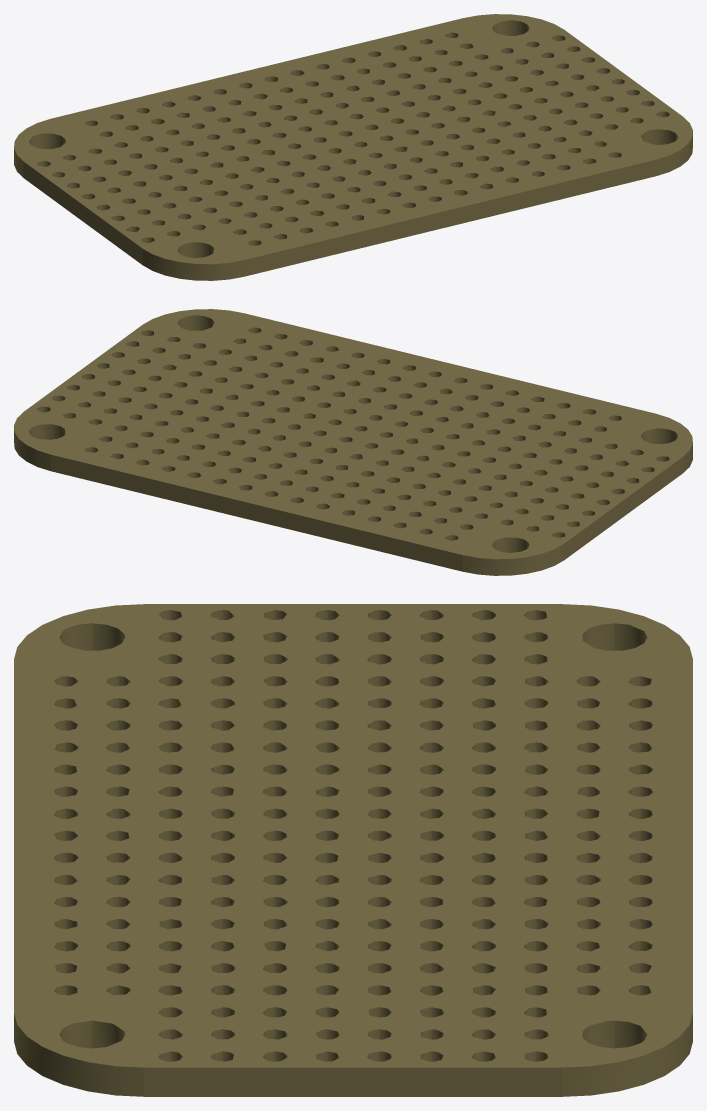
File: ada-1214.glb
3 views of the same model, one above another, from view 1: azimuth 30°, elevation 25°; view 2: azimuth 150°, elevation 25°; view 3: azimuth 270°, elevation 25° (orthographic). The views are drawn at different scales.
Visible parts, largest first — view 1: 0.16666666666666666_0.16666666666666666_0.08333333333333333_; view 2: 0.16666666666666666_0.16666666666666666_0.08333333333333333_; view 3: 0.16666666666666666_0.16666666666666666_0.08333333333333333_.
Part boxes in pixels (<box>): 0.16666666666666666_0.16666666666666666_0.08333333333333333_: <box>14,14,692,280</box>; 0.16666666666666666_0.16666666666666666_0.08333333333333333_: <box>14,309,692,575</box>; 0.16666666666666666_0.16666666666666666_0.08333333333333333_: <box>14,604,692,1096</box>.
Size of the model in its own units: 5.33 by 0.1569 by 3.3.
